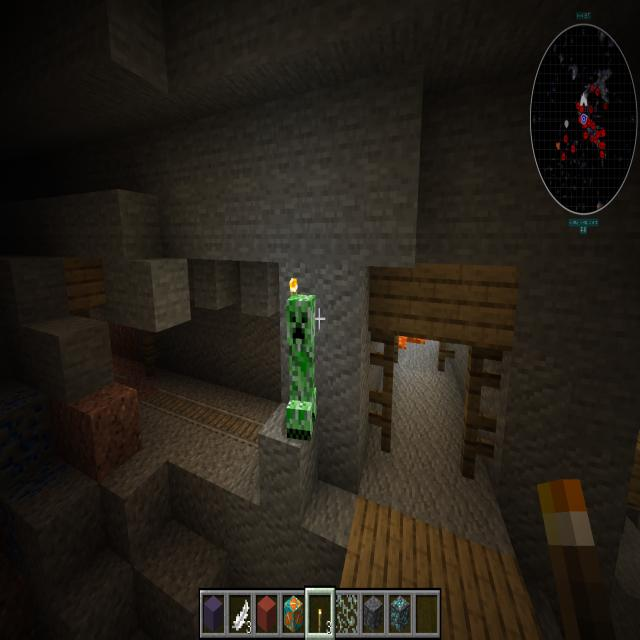Creeper: (281, 282, 327, 450)
